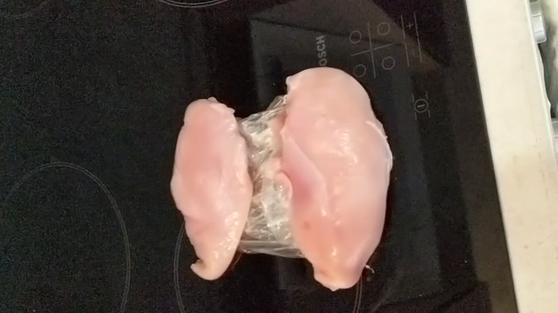chicken_fillet: (277, 60, 393, 297), (170, 91, 254, 285)
